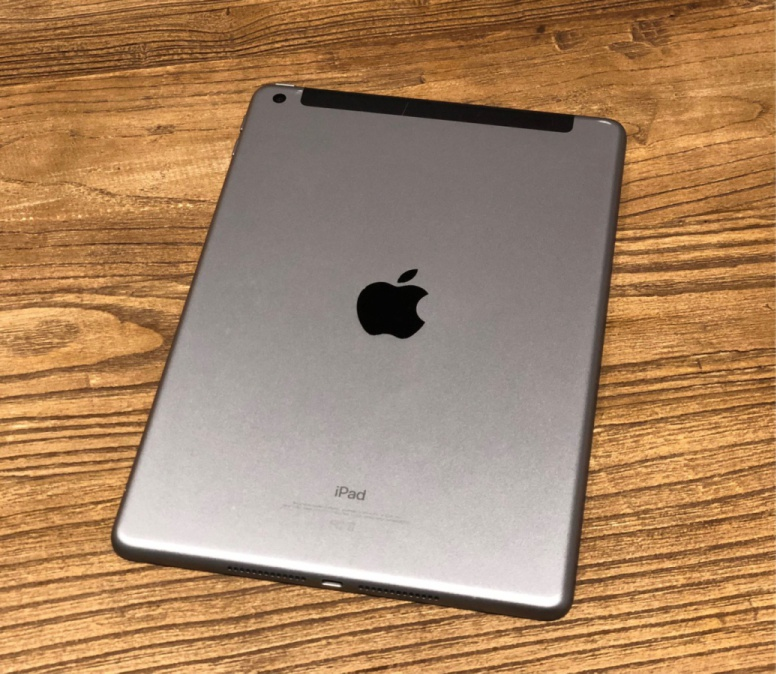apple: (343, 250, 438, 352)
